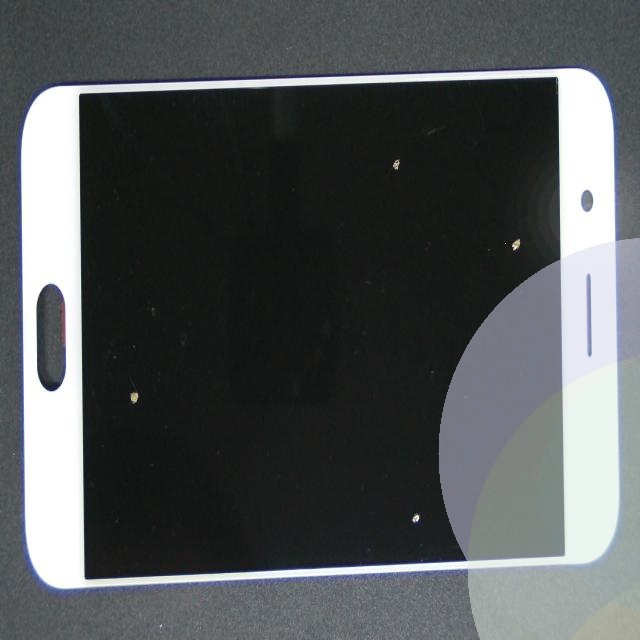stain: (231, 236, 627, 640), (246, 91, 640, 383), (23, 176, 181, 616), (209, 31, 585, 210)
